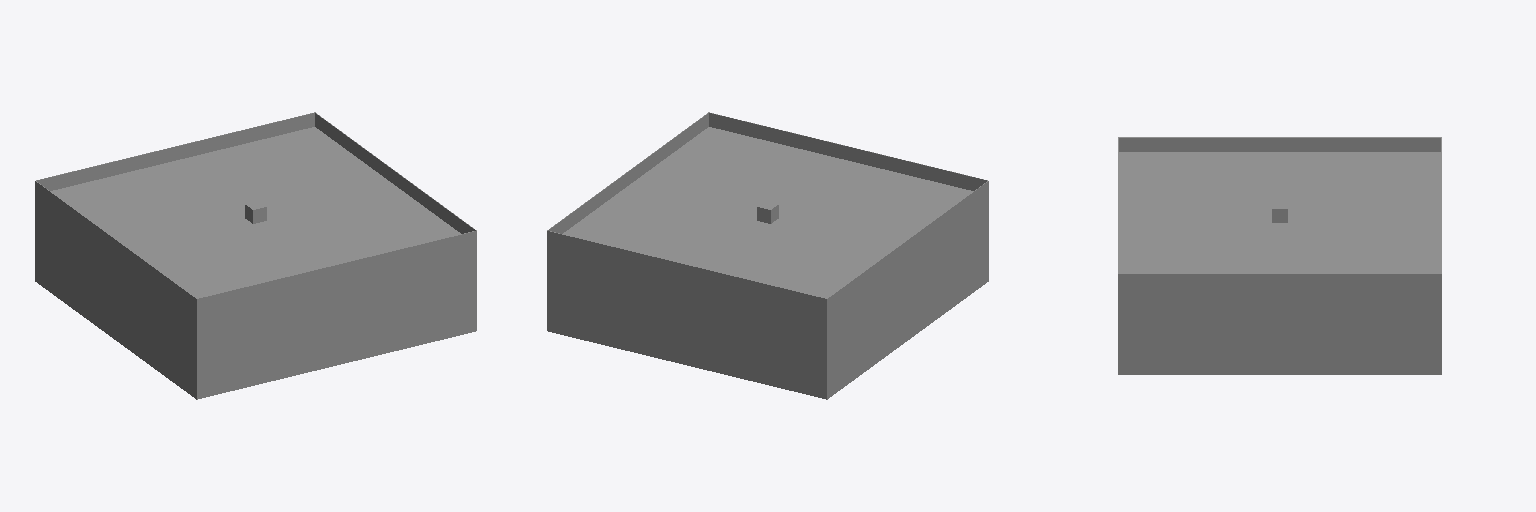
The model's file is building2.obj.
The picture shows the model from 3 angles: view 1: azimuth 30°, elevation 25°; view 2: azimuth 150°, elevation 25°; view 3: azimuth 270°, elevation 25°; orthographic projection.
Visible parts, largest first — view 1: Cube; view 2: Cube; view 3: Cube.
Boxes of the visible parts, <box> form: Cube: <box>35,112,476,399</box>; Cube: <box>547,112,988,399</box>; Cube: <box>1118,137,1441,374</box>.
Bounding box in the file's own units: 42 × 14.4 × 42.